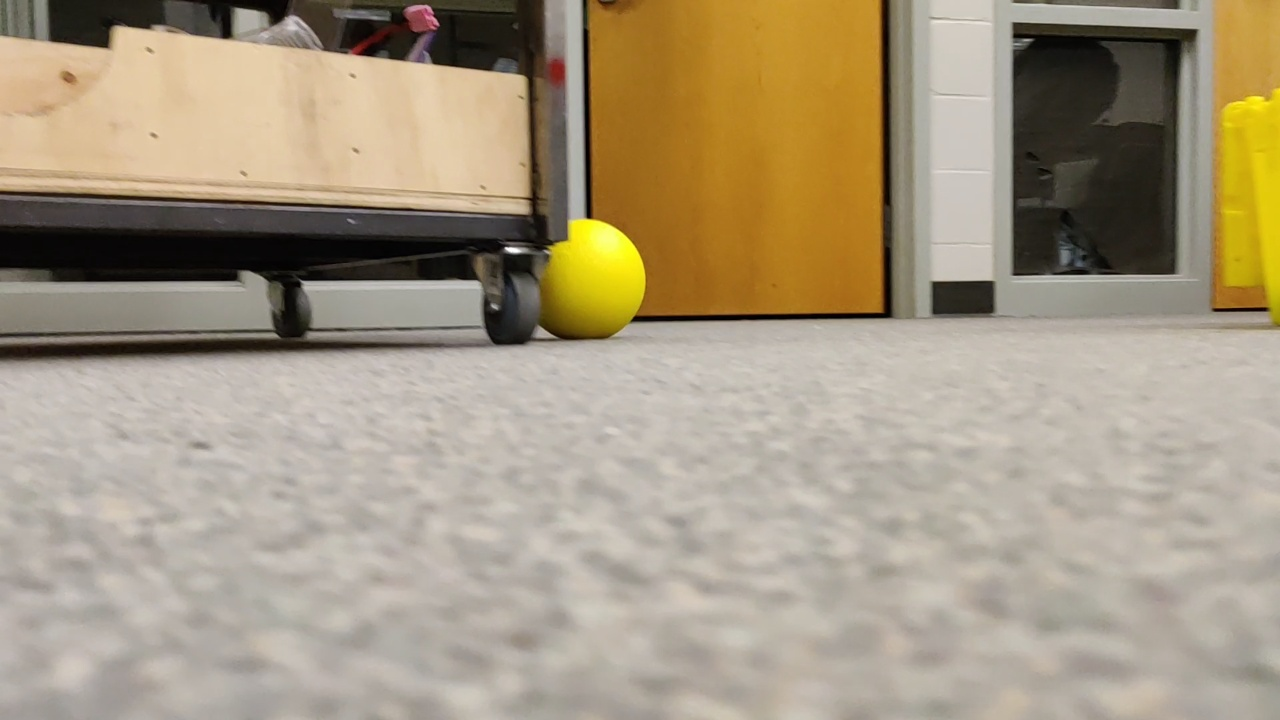Ball: (541, 215, 647, 346)
